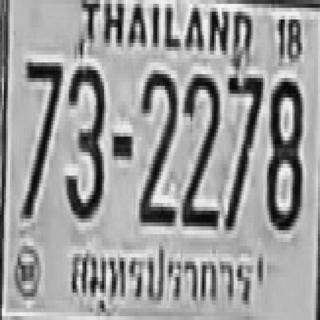N02: (138, 66, 176, 222), (181, 68, 218, 224)
N03: (65, 63, 104, 218)
N07: (22, 59, 61, 214), (224, 74, 261, 226)
N08: (265, 74, 300, 226)
P57: (65, 240, 258, 312)
